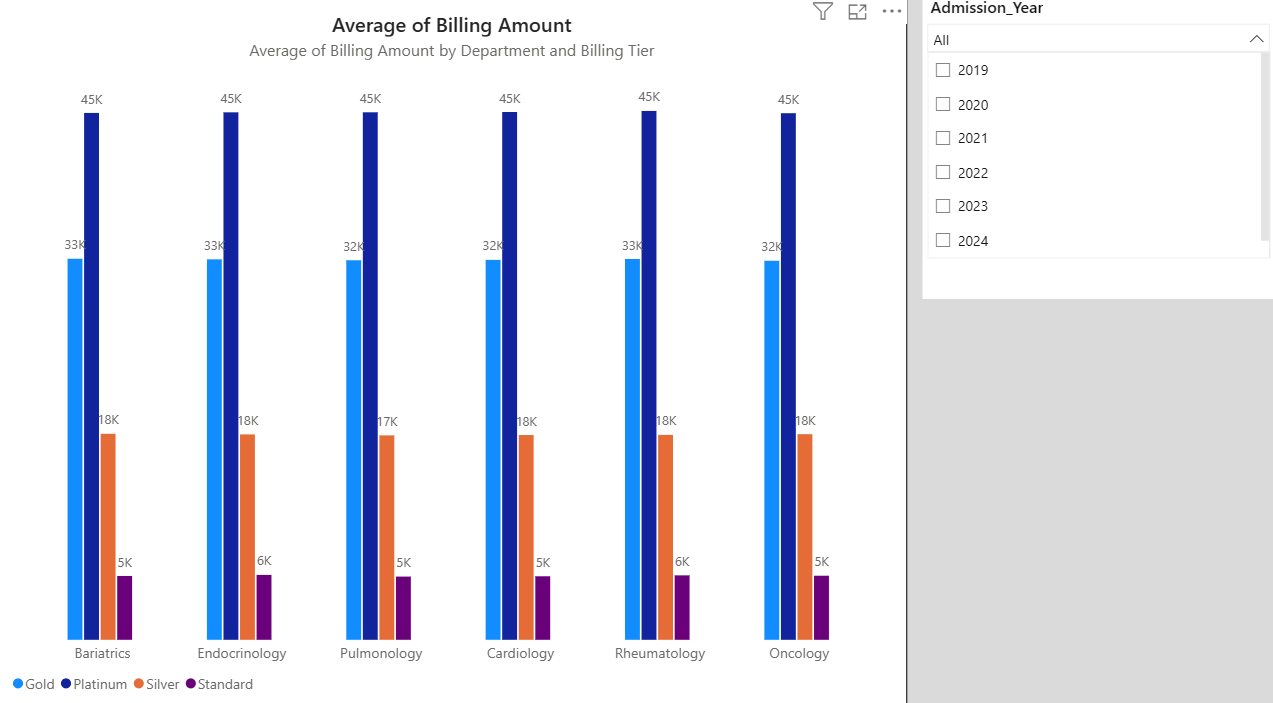

This screenshot's page, from the dashboard's own definition file:
{"tool":"powerbi","page":{"name":"Billing Analysis","canvas":[1280,720],"ordinal":2},"visuals":[{"type":"clusteredColumnChart","title":"Average of Billing Amount","fields":{"Category":["healthcare_dataset.Department"],"Series":["healthcare_dataset.Billing_Tier"],"Y":["Avg(healthcare_dataset.Billing_Amount_Fixed)"]},"box":[0,0,912,720],"z":0},{"type":"slicer","fields":{"Values":["healthcare_dataset.Admission_Year"]},"box":[928,0,352,304],"z":1}]}

Visuals, with their boxes on the page's 1280x720 design canvas (x1, y1, x2, y2). These are canvas units, not pixel positions in the 1273x703 screenshot, which may show the page scaled, cropped or inside an application window:
"Average of Billing Amount" clusteredColumnChart: x1=0 y1=0 x2=912 y2=720
slicer - healthcare_dataset.Admission_Year: x1=928 y1=0 x2=1280 y2=304
